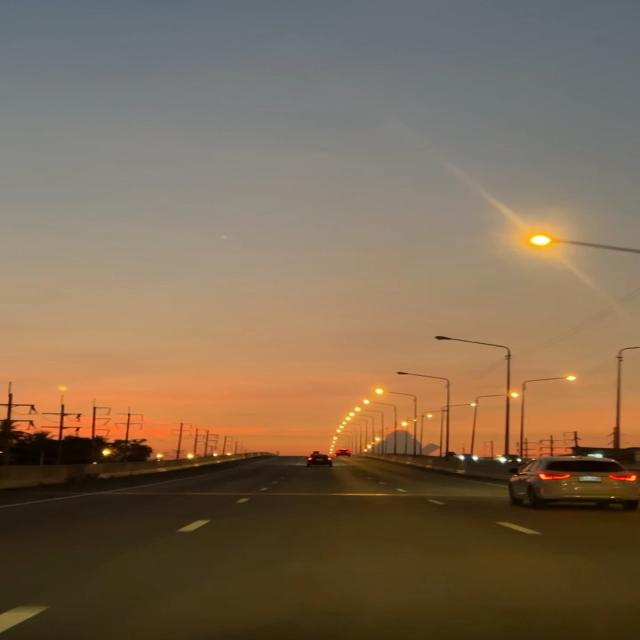Poth-hole: (139, 483, 521, 600)
